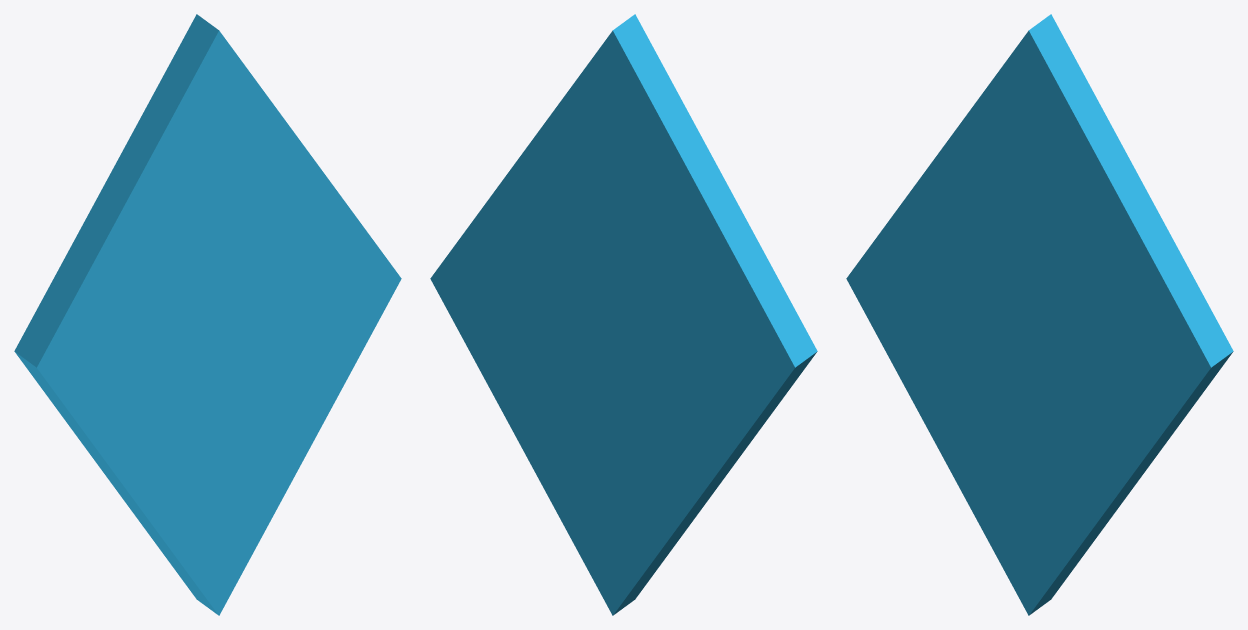
Rendered from badge_scream_canister.glb.
3 renders of one model, left to right at view 1: azimuth 30°, elevation 25°; view 2: azimuth 150°, elevation 25°; view 3: azimuth 330°, elevation 25°, orthographic.
Visible parts, largest first — view 1: badge; view 2: badge; view 3: badge.
Boxes of the visible parts, bbox=[...] form: badge: bbox=[14, 14, 401, 615]; badge: bbox=[430, 14, 817, 615]; badge: bbox=[846, 14, 1233, 615].
Size of the model in its own units: 1.5 by 2.3 by 0.16.
